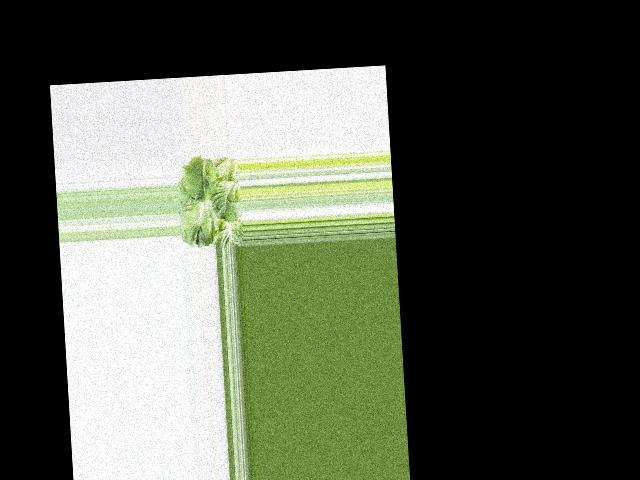lettuce: (177, 156, 244, 248)
